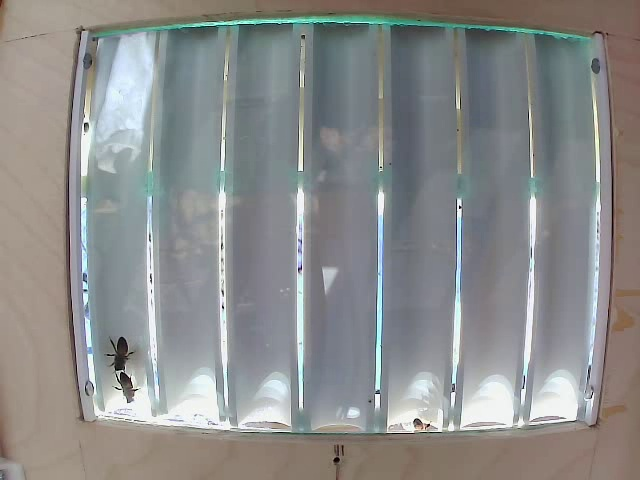bee: (107, 324, 138, 377), (115, 367, 140, 406)
